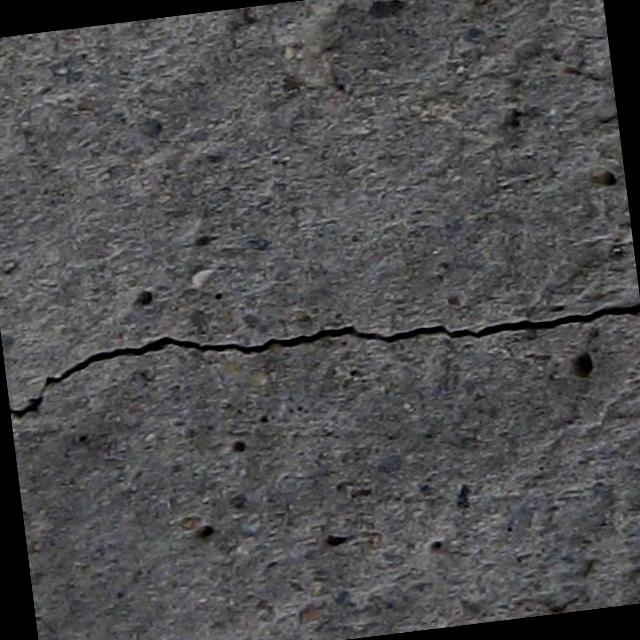crack: (4, 276, 640, 423)
